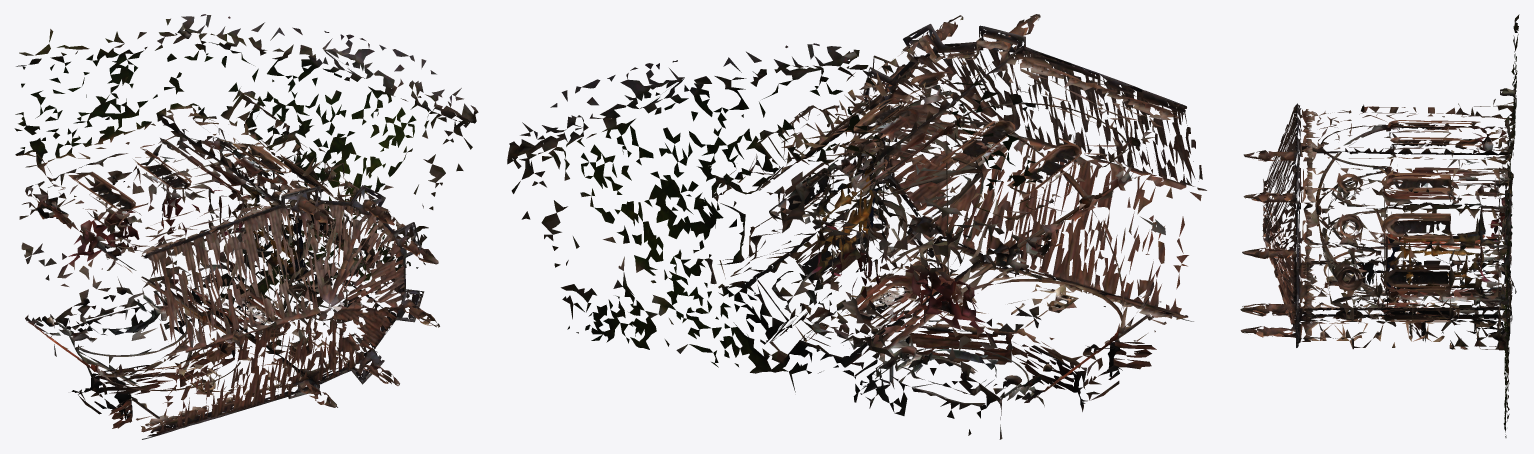
3 renders of one model, left to right at view 1: azimuth 30°, elevation 25°; view 2: azimuth 150°, elevation 25°; view 3: azimuth 270°, elevation 25°, orthographic. The views are drawn at different scales.
Bounding box in the file's own units: 25.5 × 17.32 × 15.97.
Materials: 1 (1 with a texture image).
